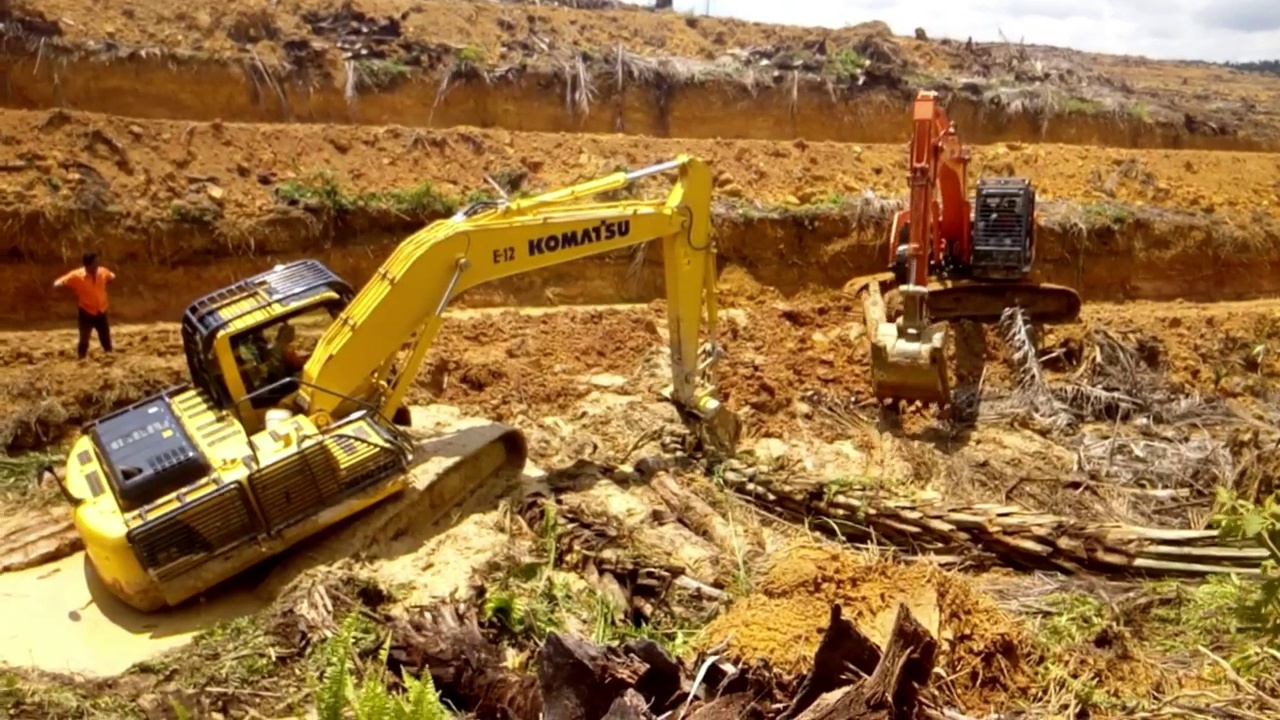excavator: (58, 154, 740, 610), (872, 86, 1083, 410)
person: (56, 251, 118, 358)
